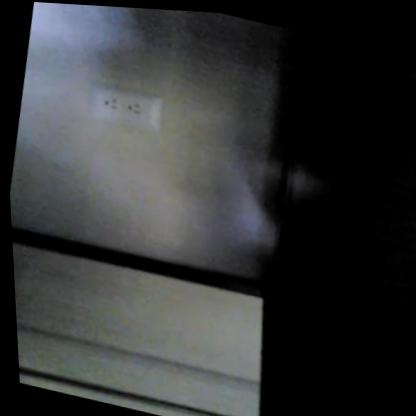OUTLET: (86, 78, 166, 131)
